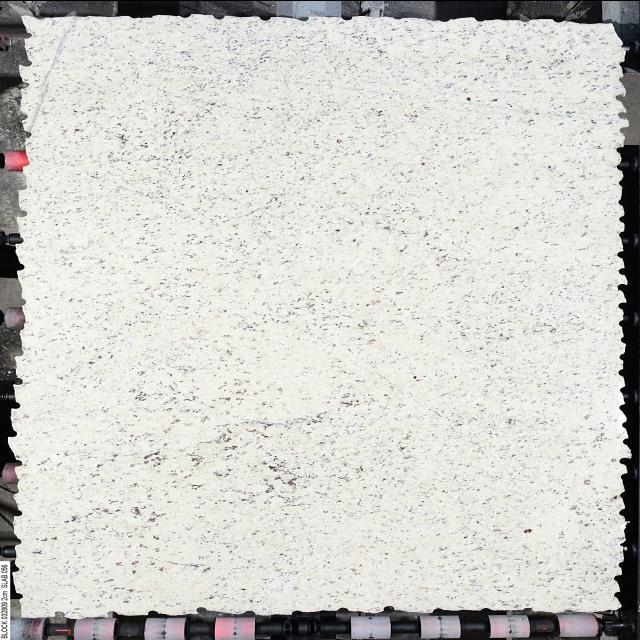chapa: (12, 15, 629, 616)
veio: (614, 280, 634, 294), (14, 56, 36, 68), (614, 90, 632, 104), (610, 300, 634, 310), (50, 608, 72, 618), (614, 123, 632, 135), (606, 590, 624, 600), (336, 12, 354, 22), (103, 609, 122, 618), (195, 604, 212, 614), (380, 604, 400, 612), (614, 110, 630, 120), (618, 456, 636, 464), (146, 608, 160, 618), (256, 15, 274, 22), (614, 560, 628, 568)
